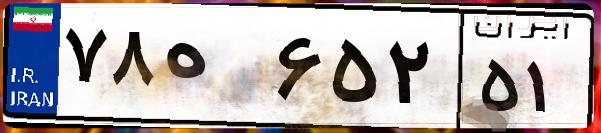1: (525, 38, 570, 115)
2: (385, 28, 445, 110)
5: (330, 28, 385, 110), (475, 38, 525, 113)
6: (270, 28, 330, 110)
7: (57, 26, 110, 100)
8: (110, 28, 158, 98)
ه: (158, 20, 270, 120)
